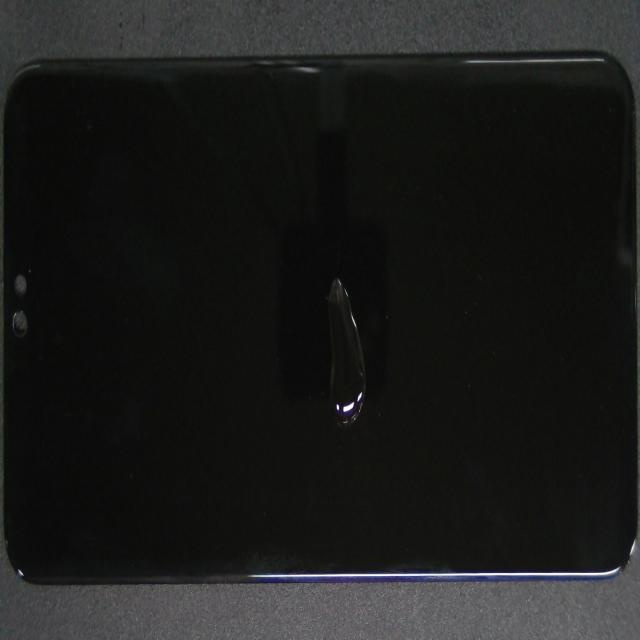oil: (157, 175, 496, 615)
